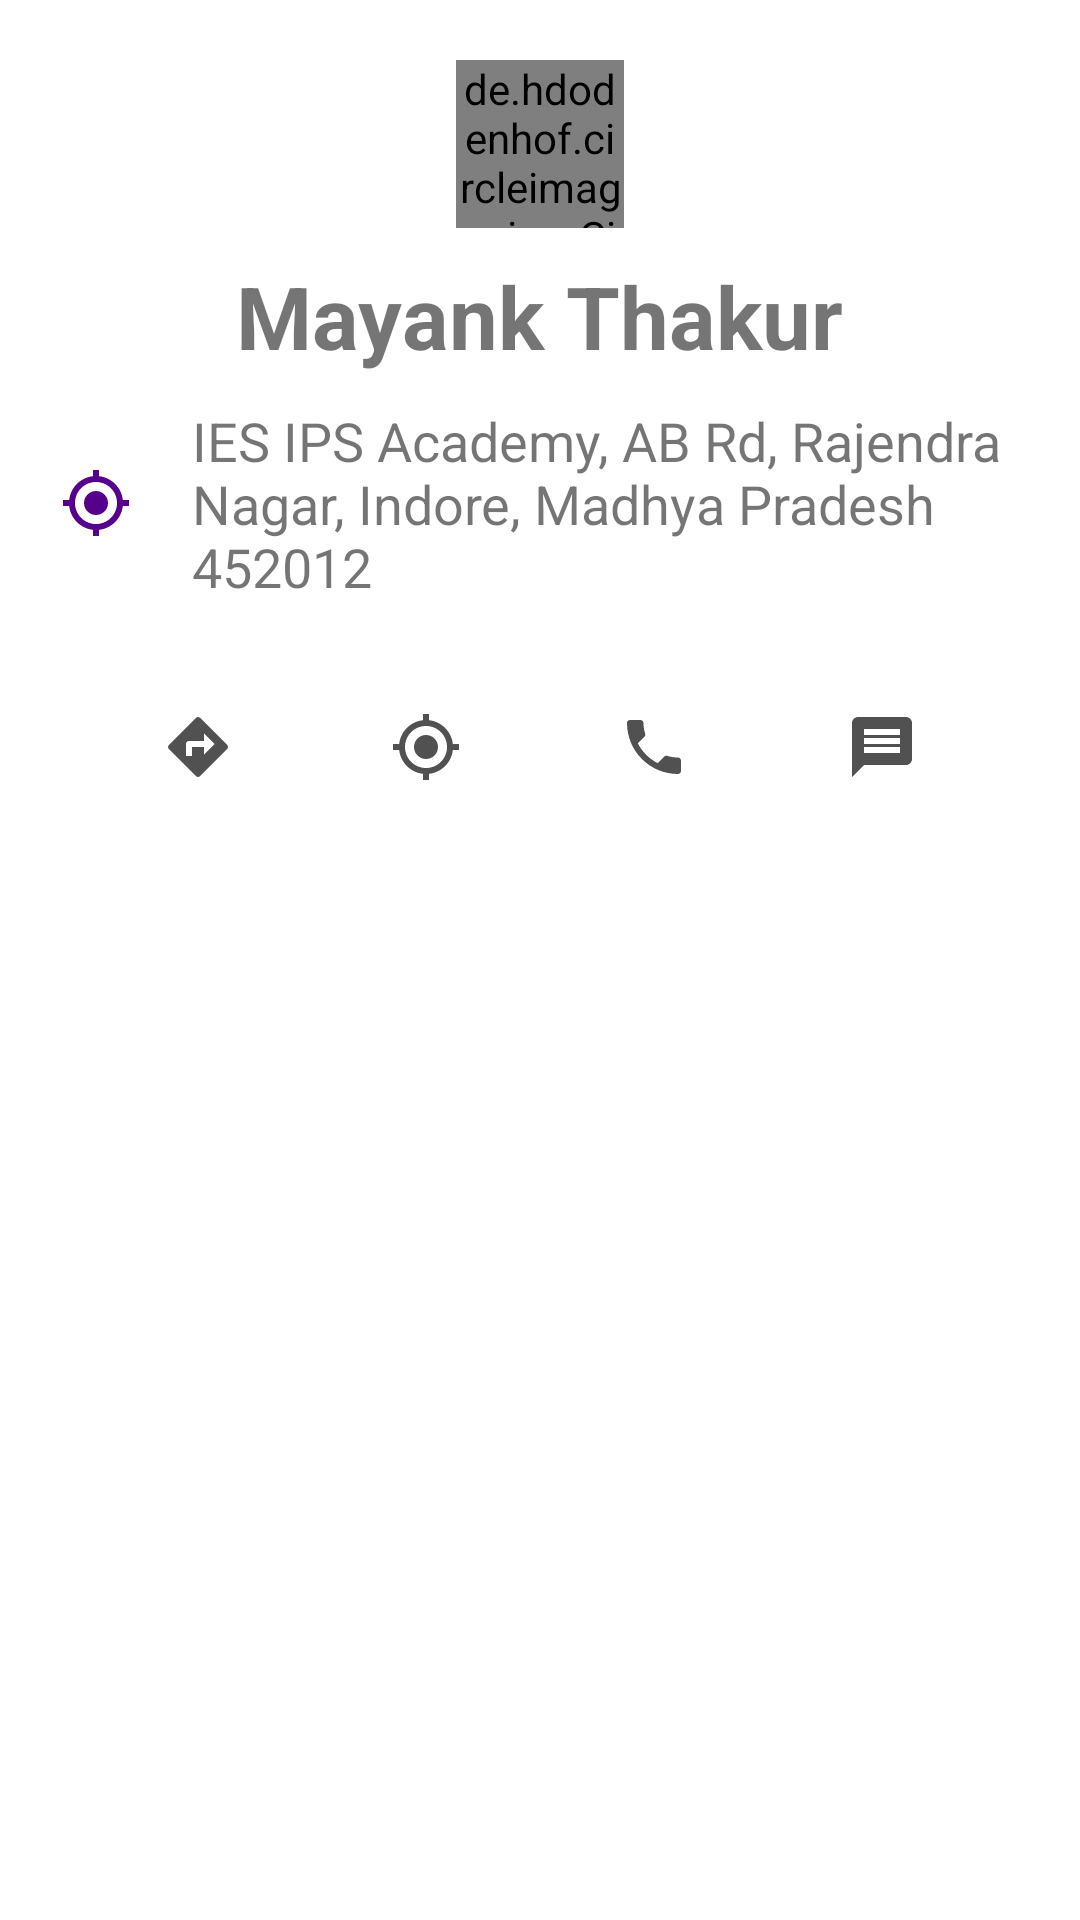

Icon click points for this 1080 x 1920 phone screenshot, format [x,y]:
direction: [198,747]
location: [426,747]
message: [882,747]
phone: [654,747]
